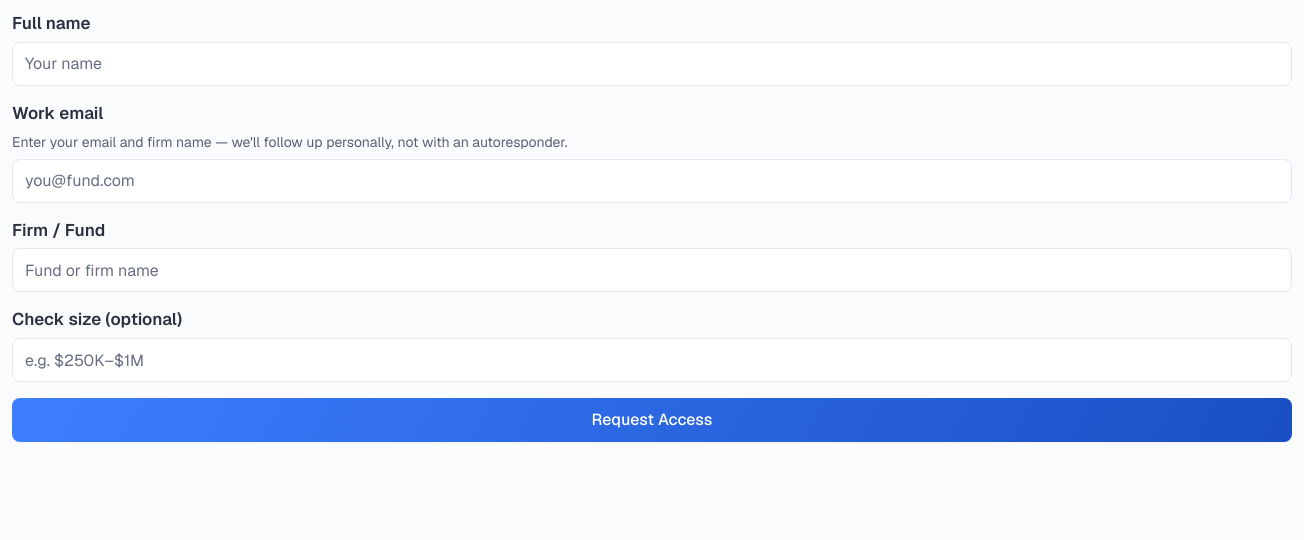
Scenario: DataRoomGate › shows inline errors and does not submit for missing fields
Click the button "Request Access" at point(652, 420), box left=12, top=398, right=1292, bottom=442
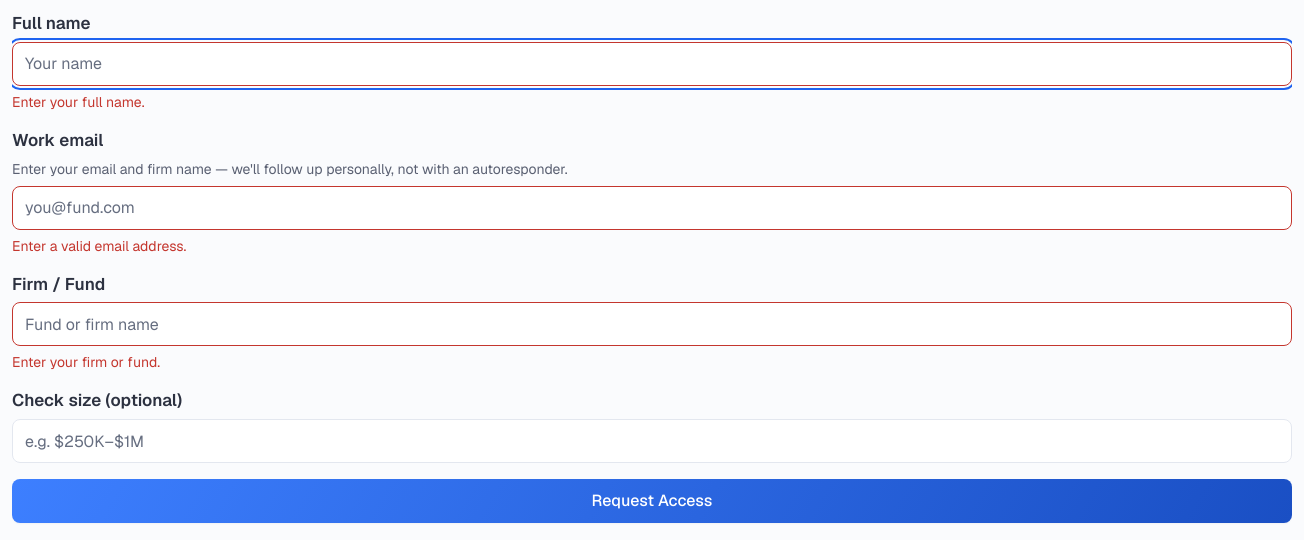
Expected: the text "Enter your full name." is shown, left=12, top=93, right=144, bottom=111
